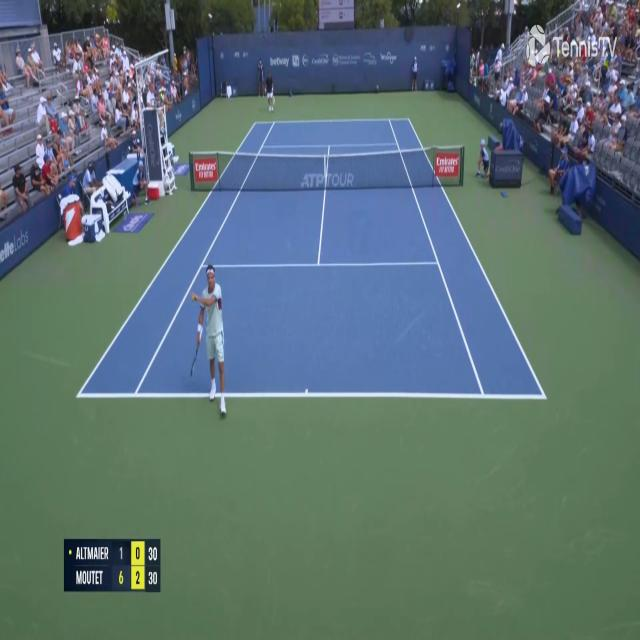tennis-player: (188, 263, 234, 418), (263, 66, 277, 117)
